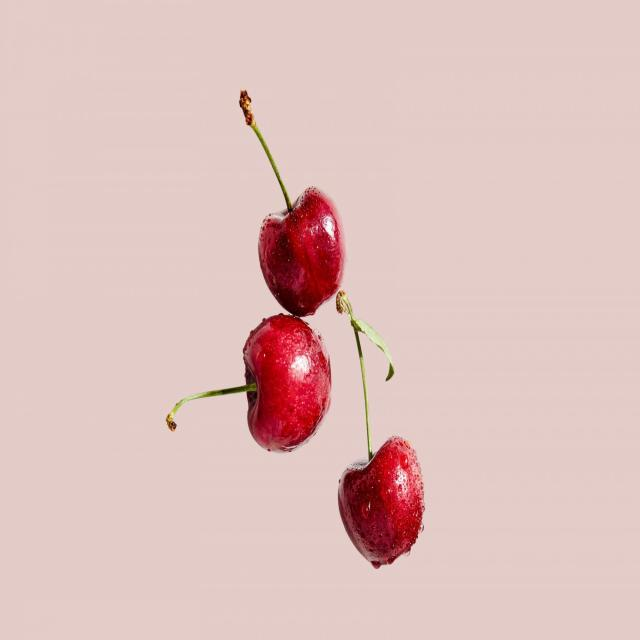cherry: (236, 85, 346, 316), (334, 300, 428, 569), (166, 319, 332, 457)
